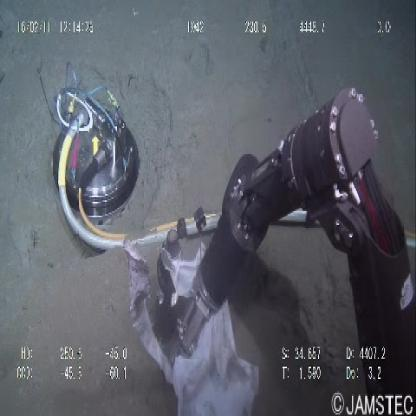Rov: (174, 91, 416, 364), (34, 55, 146, 262)
Rác: (118, 240, 269, 416)
